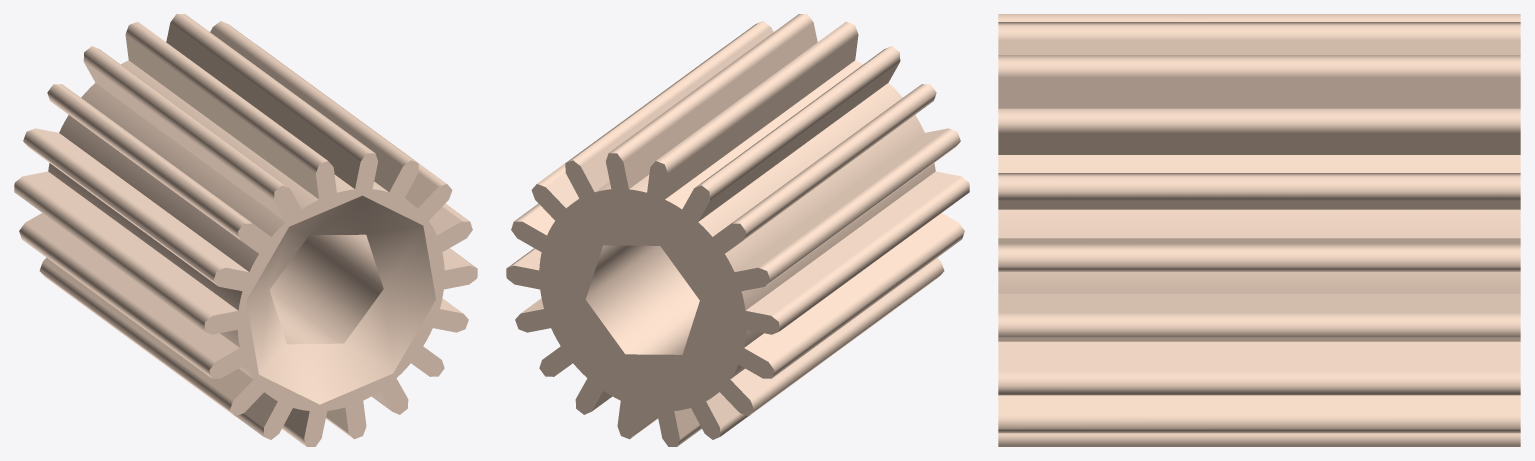
The model's file is Pignon_Premiere de sonnerie.obj.
3 views of the same model, side by side, from view 1: azimuth 30°, elevation 25°; view 2: azimuth 150°, elevation 25°; view 3: azimuth 270°, elevation 25° (orthographic). The views are drawn at different scales.
Visible parts, largest first — view 1: Face_76, Face_1, Face_75, Face_16, Face_18, Face_22, Face_12, Face_20, Face_11, Face_25, Face_29, Face_15 (+16 smaller); view 2: Face_2, Face_75, Face_16, Face_18, Face_22, Face_12, Face_20, Face_11, Face_25, Face_29, Face_15, Face_8 (+15 smaller); view 3: Face_4, Face_63, Face_70, Face_64, Face_68, Face_7, Face_60, Face_56, Face_3, Face_66, Face_72, Face_52 (+11 smaller).
Part boxes in pixels (x1,y1,x2,y2): Face_76: (246,195,435,404); Face_1: (204,153,477,446); Face_75: (269,234,383,344); Face_16: (47,84,251,239); Face_18: (81,83,285,236); Face_22: (59,115,258,271); Face_12: (83,46,289,200); Face_20: (23,128,225,286); Face_11: (166,23,360,188); Face_25: (23,171,237,315); Face_29: (25,213,239,361); Face_15: (125,35,318,199); Face_2: (506,153,779,446); Face_75: (585,245,699,354); Face_16: (732,84,936,239); Face_18: (698,83,902,236); Face_22: (725,115,924,271); Face_12: (694,46,900,200); Face_20: (758,128,960,286); Face_11: (623,23,817,188); Face_25: (746,171,960,315); Face_29: (744,213,958,361); Face_15: (665,35,858,199); Face_8: (656,21,858,173); Face_4: (998,77,1520,108); Face_63: (998,341,1520,371); Face_70: (998,209,1520,238); Face_64: (998,243,1520,271); Face_68: (998,173,1520,200); Face_7: (998,108,1520,133); Face_60: (998,312,1520,337); Face_56: (998,371,1520,395); Face_3: (998,55,1520,77); Face_66: (998,272,1520,293); Face_72: (998,133,1520,154); Face_52: (998,413,1520,433).
Size of the model in its own units: 0.0152 by 0.0151 by 0.0183.
